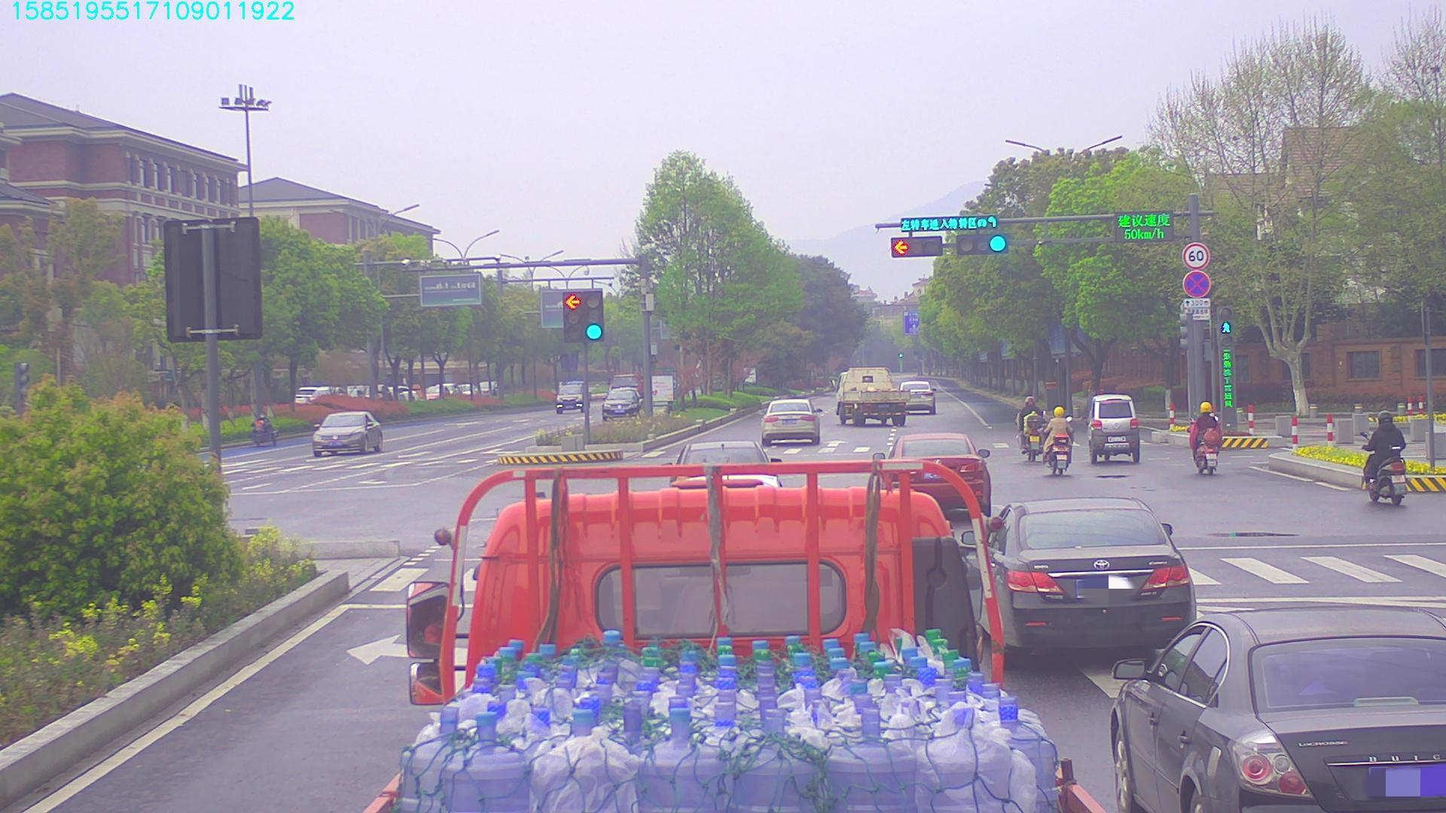green: (959, 235, 1012, 254)
red: (889, 237, 941, 252)
wait_on: (899, 215, 999, 228)
